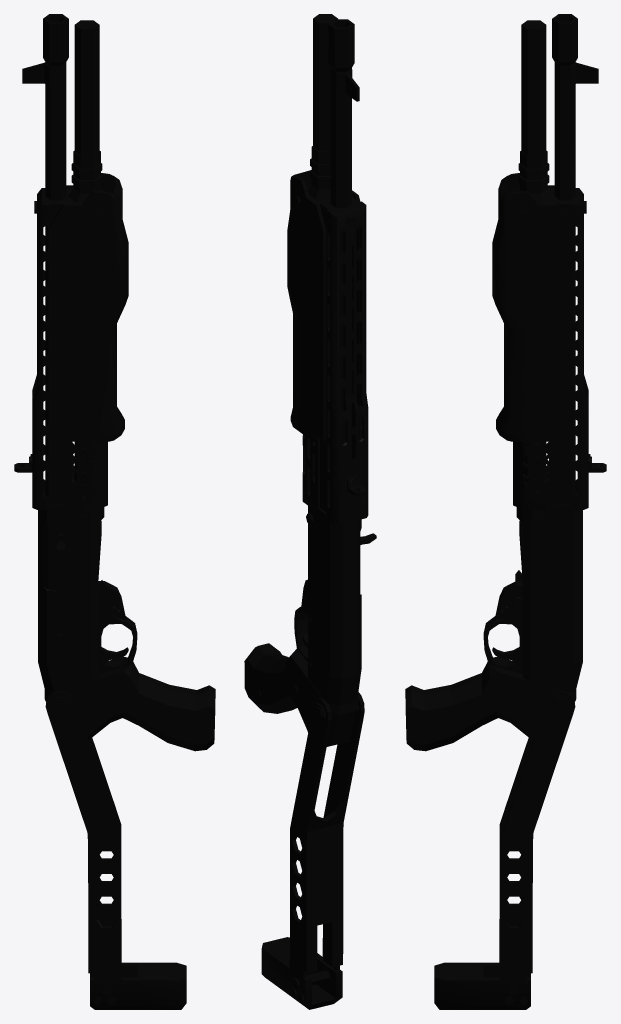
File: SPAS12.fbx
3 renders of one model, left to right at view 1: azimuth 90°, elevation 25°; view 2: azimuth 210°, elevation 25°; view 3: azimuth 270°, elevation 25°, orthographic.
Visible parts, largest first — view 1: asset_SPAS12.001; view 2: asset_SPAS12.001; view 3: asset_SPAS12.001.
Part boxes in pixels (x1=…): asset_SPAS12.001: x1=14, y1=14, x2=215, y2=1009; asset_SPAS12.001: x1=244, y1=14, x2=376, y2=1009; asset_SPAS12.001: x1=405, y1=14, x2=606, y2=1009.
Bounding box in the file's own units: 0.0386 × 0.624 × 0.1155.
